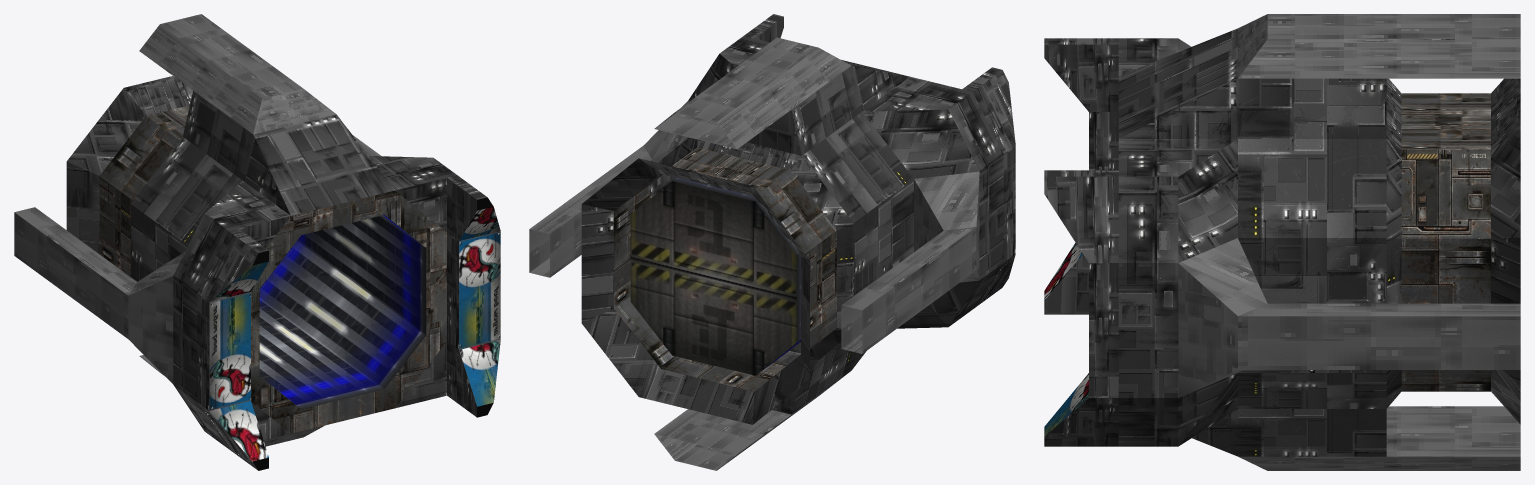
The model's file is 00079_gate.obj.
The picture shows the model from 3 angles, left to right: view 1: azimuth 30°, elevation 25°; view 2: azimuth 150°, elevation 25°; view 3: azimuth 270°, elevation 25°; orthographic projection. The views are drawn at different scales.
Visible parts, largest first — view 1: rohr01, part10, part02, wire02, wire03, part01, part11, com06, com05, part12, part15, com04 (+8 smaller); view 2: B_han01, wire02, part02, wire03, part01, part11, part10, part05, part08, part07, wire01, wire04 (+12 smaller); view 3: wire01, part06, part10, part05, wire03, part12, wire04, part04, part09, part16, part07, part14 (+7 smaller).
Boxes of the visible parts, x1,y1,x2,y2 form: rohr01: (259,215,426,409); part10: (183,91,394,234); part02: (67,88,242,245); wire02: (14,207,185,383); wire03: (139,14,335,134); part01: (66,162,187,281); part11: (173,181,300,292); com06: (197,292,250,410); com05: (447,231,500,349); part12: (369,156,456,247); part15: (173,276,259,401); com04: (447,340,500,417); B_han01: (630,181,796,375); wire02: (841,171,979,353); part02: (753,112,913,259); wire03: (654,37,851,149); part01: (801,179,913,378); part11: (862,76,1003,178); part10: (747,60,909,155); part05: (581,174,676,322); part08: (639,357,787,424); part07: (639,139,801,196); wire01: (529,100,688,277); wire04: (654,373,847,470); wire01: (1178,238,1520,397); part06: (1238,129,1520,238); part10: (1118,28,1386,138); part05: (1238,237,1520,384); wire03: (1238,14,1520,78); part12: (1118,139,1237,262); wire04: (1238,406,1520,470); part04: (1238,370,1520,424); part09: (1192,409,1386,456); part16: (1118,263,1178,397); part07: (1386,78,1520,149); part14: (1118,373,1237,446).
Size of the model in its own units: 47.76 by 47.76 by 47.76.
Materials: 7 (6 with a texture image).
